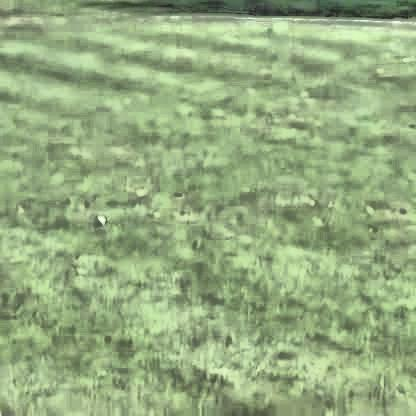golfball: (94, 213, 104, 223)
